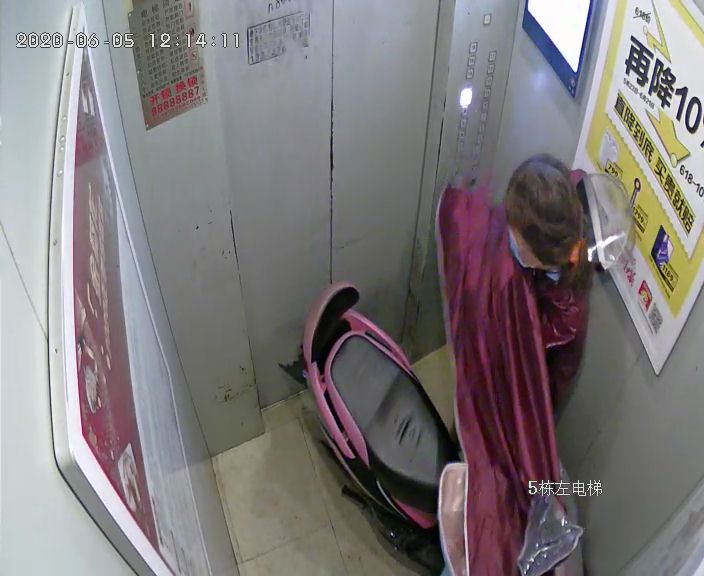Electric-bicycle: (293, 281, 580, 576)
